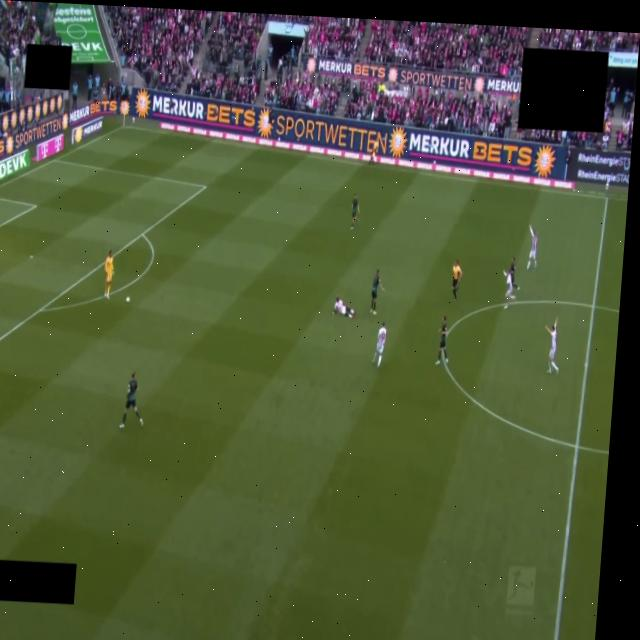ball: (126, 297, 130, 303)
player: (120, 372, 143, 428), (546, 318, 558, 373), (373, 322, 386, 368), (436, 316, 448, 365), (371, 270, 383, 315), (104, 251, 113, 299), (527, 227, 537, 270), (333, 298, 354, 318), (503, 271, 515, 300), (351, 195, 359, 229), (510, 257, 518, 290)
referee: (452, 261, 462, 299)
